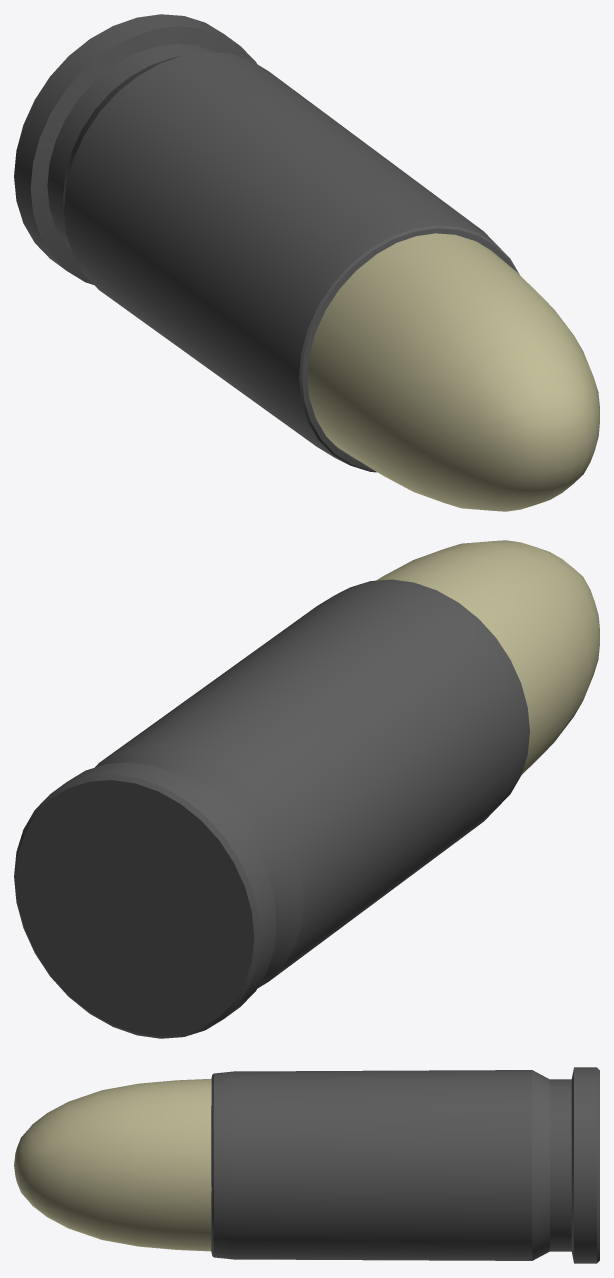
Rendered from DanDen.fbx.
3 views of the same model, one above another, from view 1: azimuth 30°, elevation 25°; view 2: azimuth 150°, elevation 25°; view 3: azimuth 270°, elevation 25° (orthographic). The views are drawn at different scales.
Visible parts, largest first — view 1: 9mm_Shell, 9mm_Bullet; view 2: 9mm_Shell, 9mm_Bullet; view 3: 9mm_Shell, 9mm_Bullet.
Part boxes in pixels (<box>): 9mm_Shell: <box>14,14,519,472</box>; 9mm_Bullet: <box>307,233,599,511</box>; 9mm_Shell: <box>14,579,529,1038</box>; 9mm_Bullet: <box>376,540,599,774</box>; 9mm_Shell: <box>211,1067,599,1263</box>; 9mm_Bullet: <box>14,1078,211,1251</box>.
Size of the model in its own units: 2.04 by 2.04 by 6.07.
